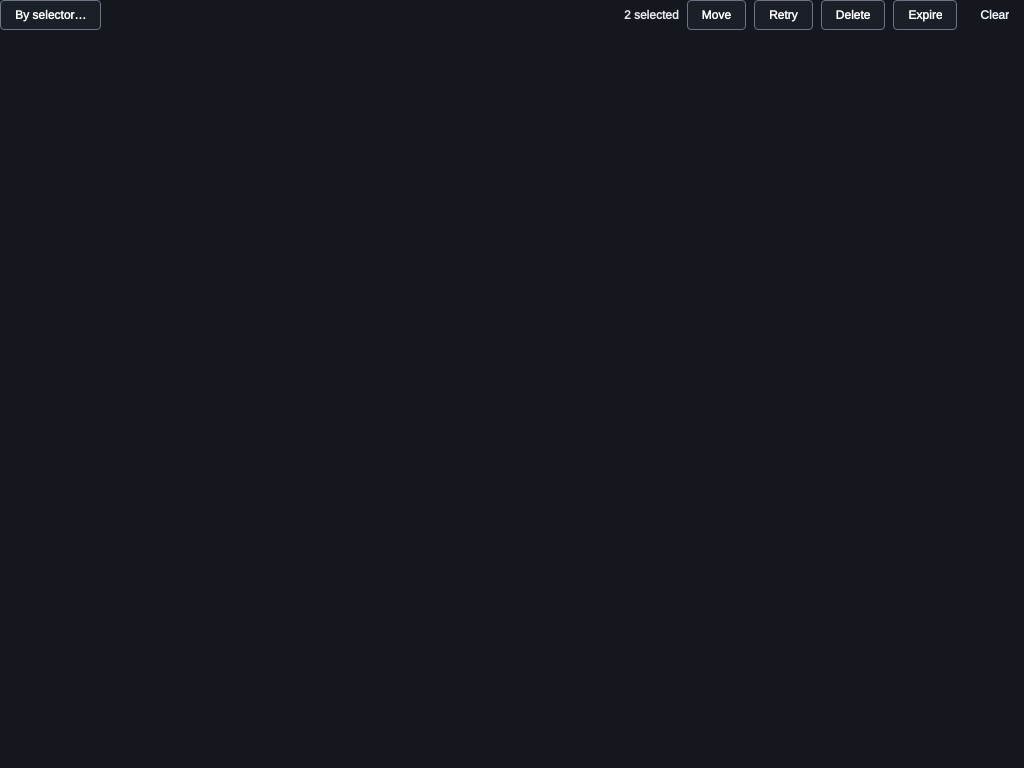
Test: MessageActions › keeps the dialog open and states the cause and the next step when the operation fails
Click the button "Expire". click: (925, 15)
box: [893,0,957,30]
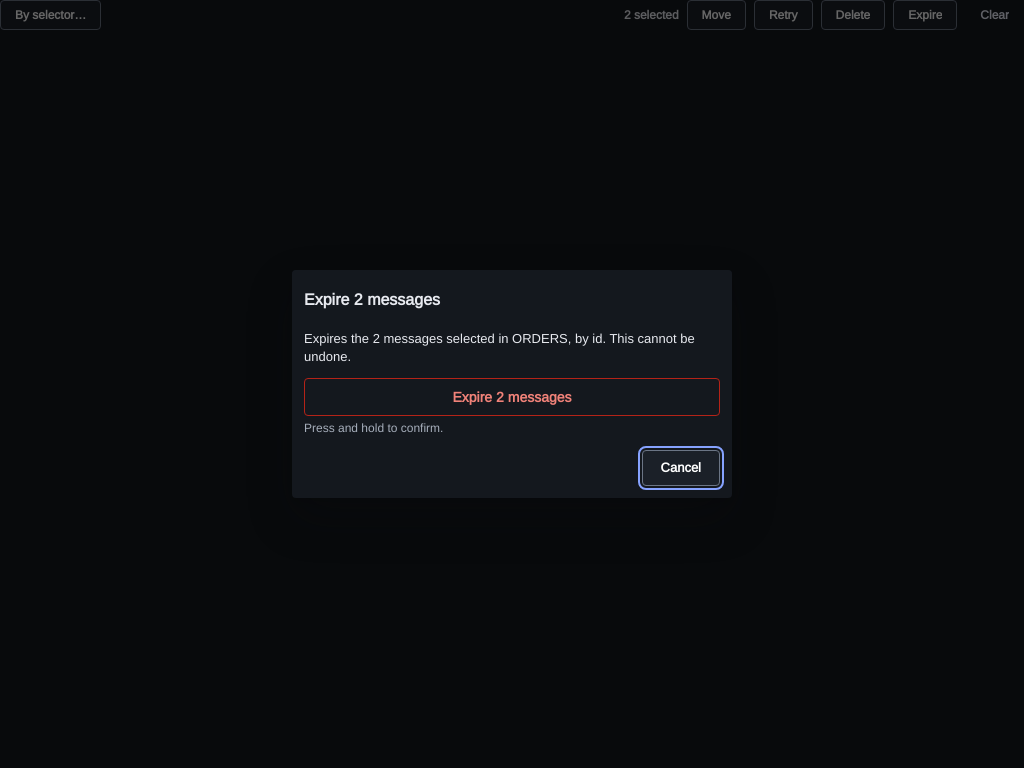
Press the mouse on the button "Expire 2 messages Expire 2 messages" at (512, 398), box [304,378,720,416]
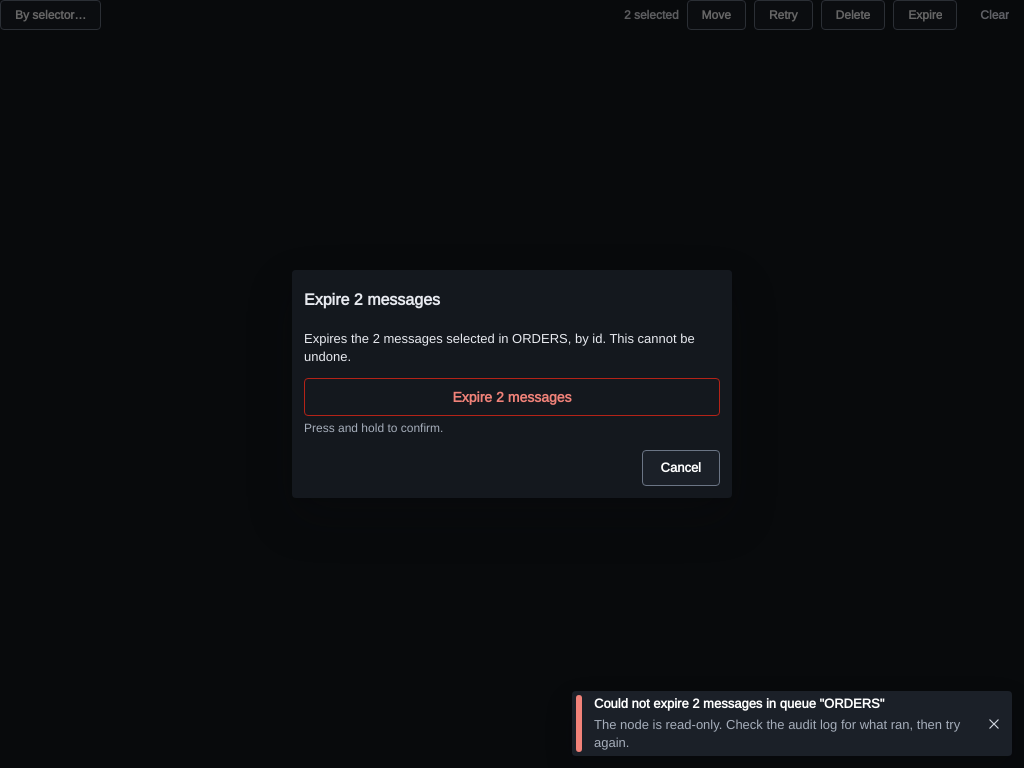
Check: the dialog "Expire 2 messages" is shown, box [292,270,732,498]
Check: the message shows "Could not expire 2 messages in queue \"ORDERS\"", box [594,695,884,712]
Check: the message shows "The node is read-only. Check the audit log for what ran, then try again.", box [594,716,960,751]
